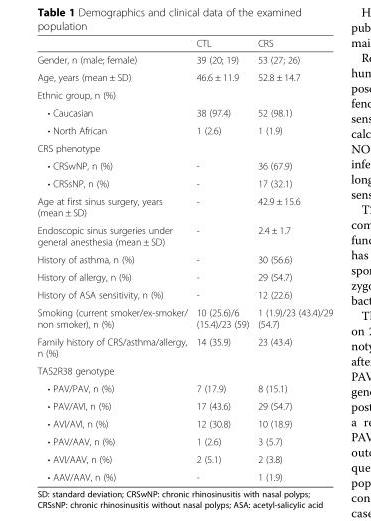table: (36, 37, 332, 482)
table column: (36, 37, 191, 482), (252, 37, 332, 482), (191, 37, 252, 482)
table column header: (36, 37, 332, 50)
table projected row header: (36, 85, 332, 103), (36, 138, 332, 156), (36, 361, 332, 379)
table row: (36, 192, 332, 221), (36, 221, 332, 250), (36, 303, 332, 332), (36, 332, 332, 361), (36, 50, 332, 68), (36, 85, 332, 103), (36, 103, 332, 121), (36, 138, 332, 156), (36, 156, 332, 174), (36, 174, 332, 192), (36, 267, 332, 285), (36, 285, 332, 303), (36, 361, 332, 379), (36, 396, 332, 414), (36, 414, 332, 432), (36, 449, 332, 467), (36, 68, 332, 85), (36, 121, 332, 138), (36, 250, 332, 267), (36, 379, 332, 396), (36, 432, 332, 449), (36, 467, 332, 482), (36, 37, 332, 50)
